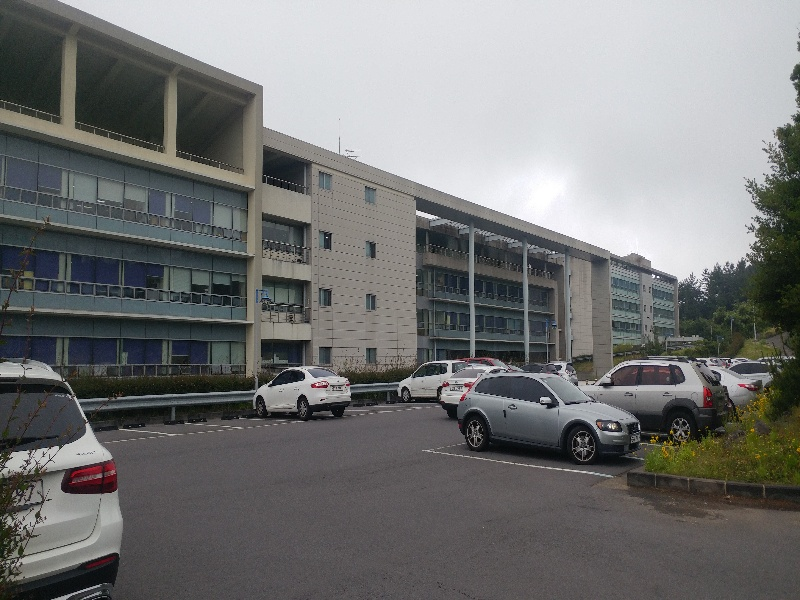College of Marine Science: (575, 247, 684, 348)
Engineering College Building 4: (6, 36, 556, 355)
